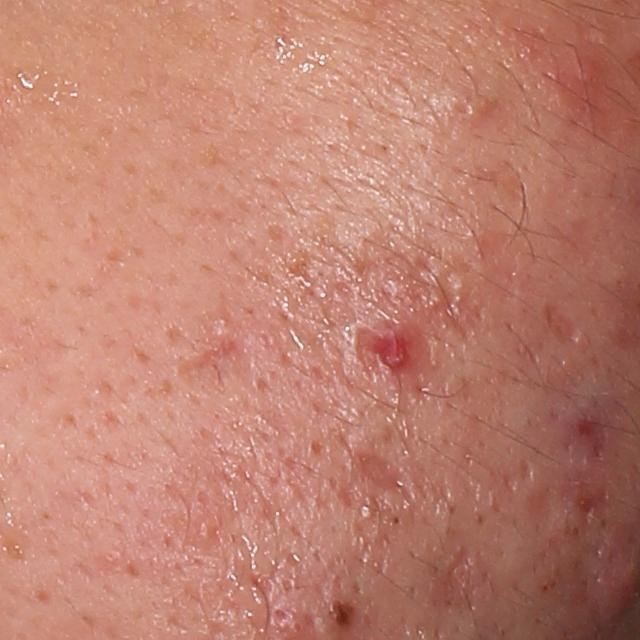atrophic_scar: (352, 441, 420, 515), (433, 544, 493, 621), (172, 334, 244, 389), (520, 484, 562, 544), (352, 321, 386, 383), (548, 301, 587, 349)
nevus: (327, 591, 360, 632)
papule: (367, 317, 415, 376)
